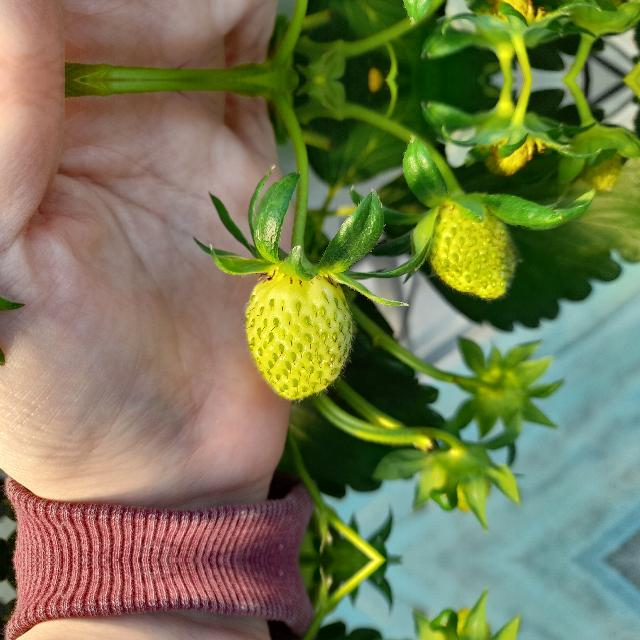Health_25: (242, 265, 356, 403), (425, 197, 527, 305)
